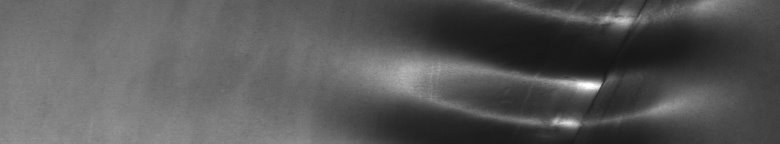ke: (430, 4, 673, 136)
